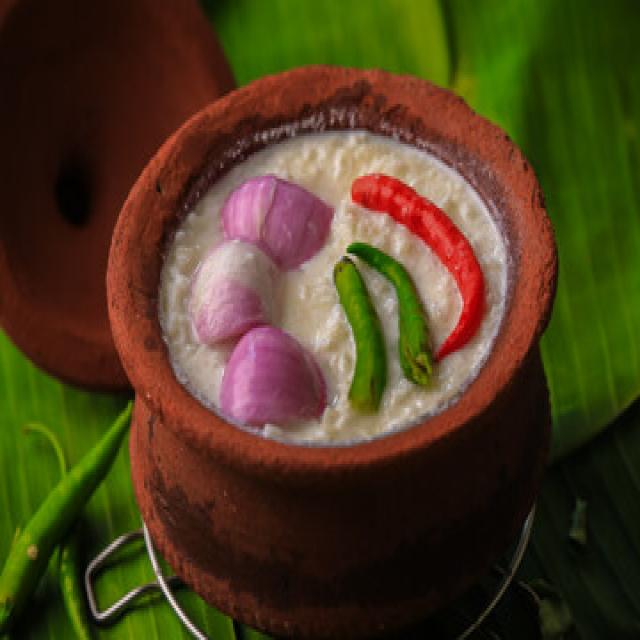PORRIDGE: (152, 126, 515, 447)
